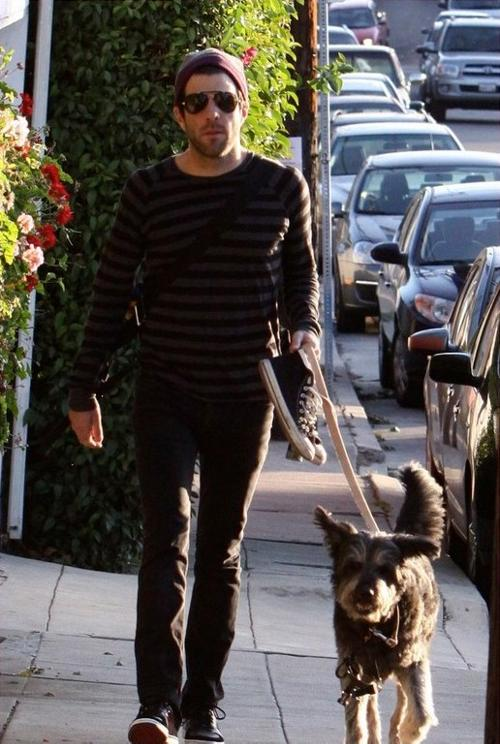person: (68, 49, 324, 742)
